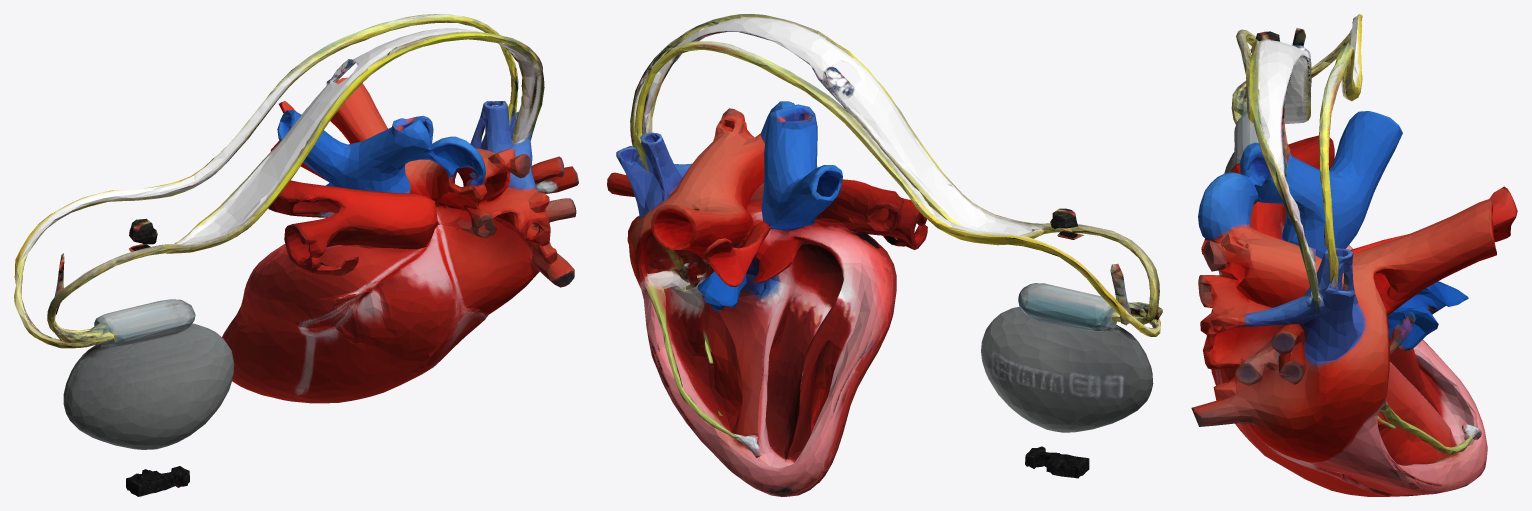
Rendered from Pacemaker.glb.
3 views of the same model, side by side, from view 1: azimuth 30°, elevation 25°; view 2: azimuth 150°, elevation 25°; view 3: azimuth 270°, elevation 25° (orthographic). The views are drawn at different scales.
Parts seen in each view (by area): view 1: world; view 2: world; view 3: world.
Part boxes in pixels (bbox=[...]): world: bbox=[14, 14, 578, 496]; world: bbox=[607, 14, 1162, 496]; world: bbox=[1191, 14, 1517, 496].
Size of the model in its own units: 0.9779 by 0.6732 by 0.4273.
1 material, 1 textured.
